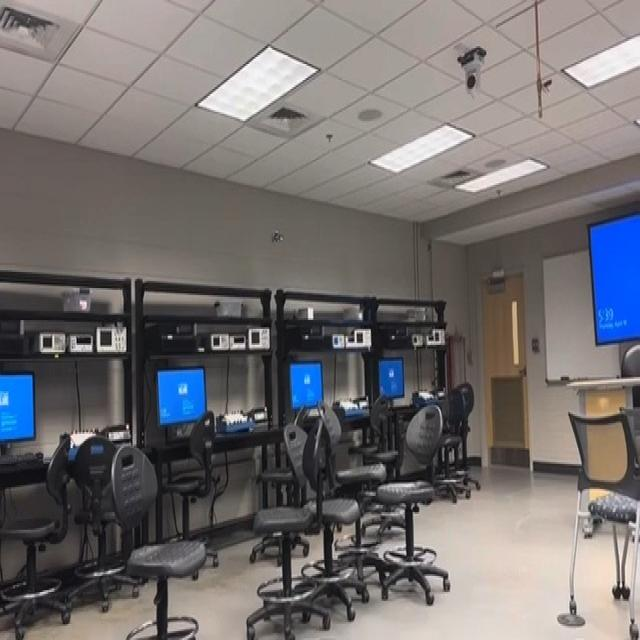drone: (261, 215, 289, 251)
